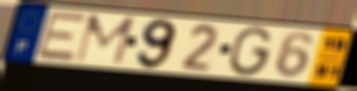2: (178, 23, 220, 74)
6: (272, 31, 315, 80)
9: (134, 18, 181, 70)
E: (33, 10, 90, 63)
G: (226, 25, 275, 78)
M: (72, 13, 138, 67)
